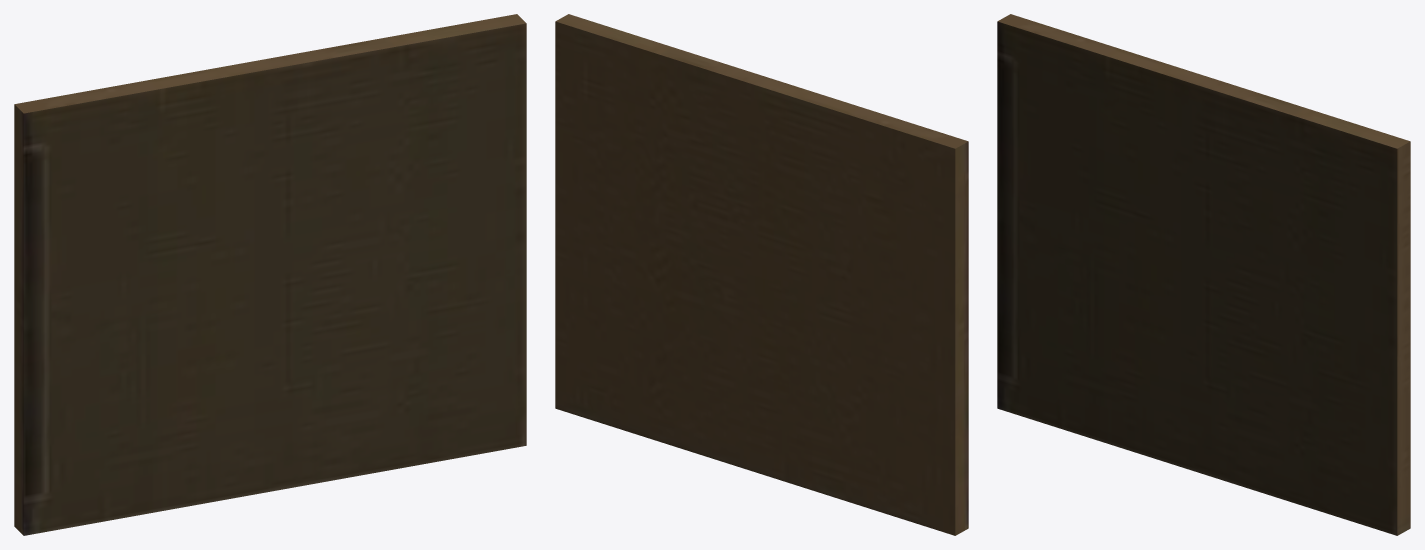
The model's file is seat__seat_board.glb.
3 views of the same model, side by side, from view 1: azimuth 30°, elevation 25°; view 2: azimuth 150°, elevation 25°; view 3: azimuth 330°, elevation 25° (orthographic). The views are drawn at different scales.
Visible parts, largest first — view 1: geometry_0; view 2: geometry_0; view 3: geometry_0.
Boxes of the visible parts, box(x1,y1,x2,y2) form: geometry_0: box(14, 14, 526, 535); geometry_0: box(555, 14, 968, 535); geometry_0: box(997, 14, 1410, 535).
Size of the model in its own units: 0.3393 by 0.29 by 0.0563.
1 material, 1 textured.
